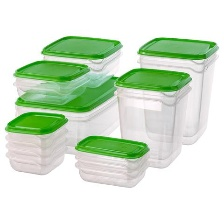plastic_box: (131, 28, 223, 150), (8, 69, 128, 158), (108, 62, 196, 172), (34, 29, 126, 93), (0, 107, 72, 180), (69, 131, 153, 193), (7, 55, 93, 109)
